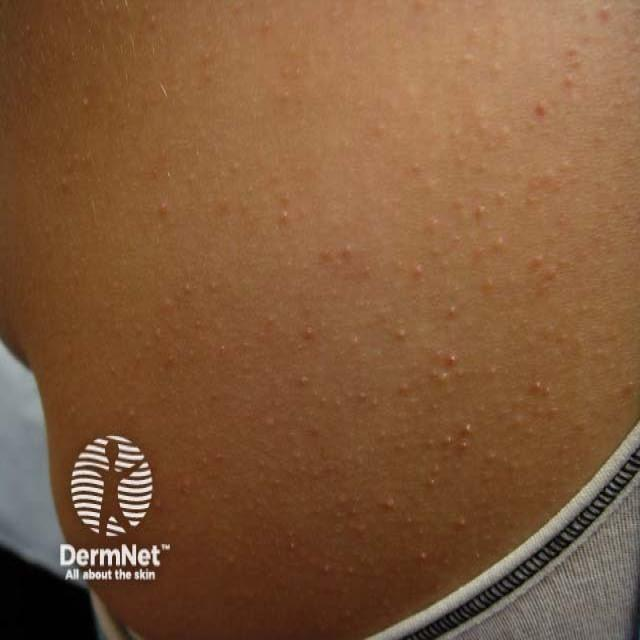fungal: (102, 183, 572, 578), (397, 0, 640, 243)
